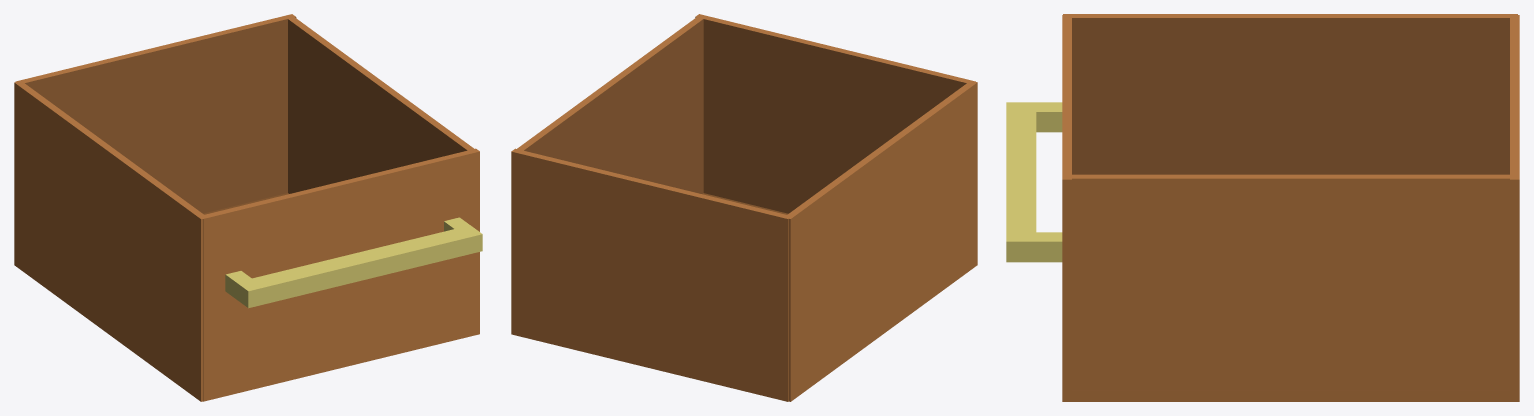
Rendered from small_drawer.obj.
3 renders of one model, left to right at view 1: azimuth 30°, elevation 25°; view 2: azimuth 150°, elevation 25°; view 3: azimuth 270°, elevation 25°, orthographic. The views are drawn at different scales.
Visible parts, largest first — view 1: pasted__polySurface10; view 2: pasted__polySurface10; view 3: pasted__polySurface10.
Boxes of the visible parts, x1,y1,x2,y2 form: pasted__polySurface10: (14, 14, 482, 401); pasted__polySurface10: (511, 14, 977, 401); pasted__polySurface10: (1006, 14, 1519, 401).
Size of the model in its own units: 0.4292 by 0.2696 by 0.5624.
Materials: 4 (4 with a texture image).
